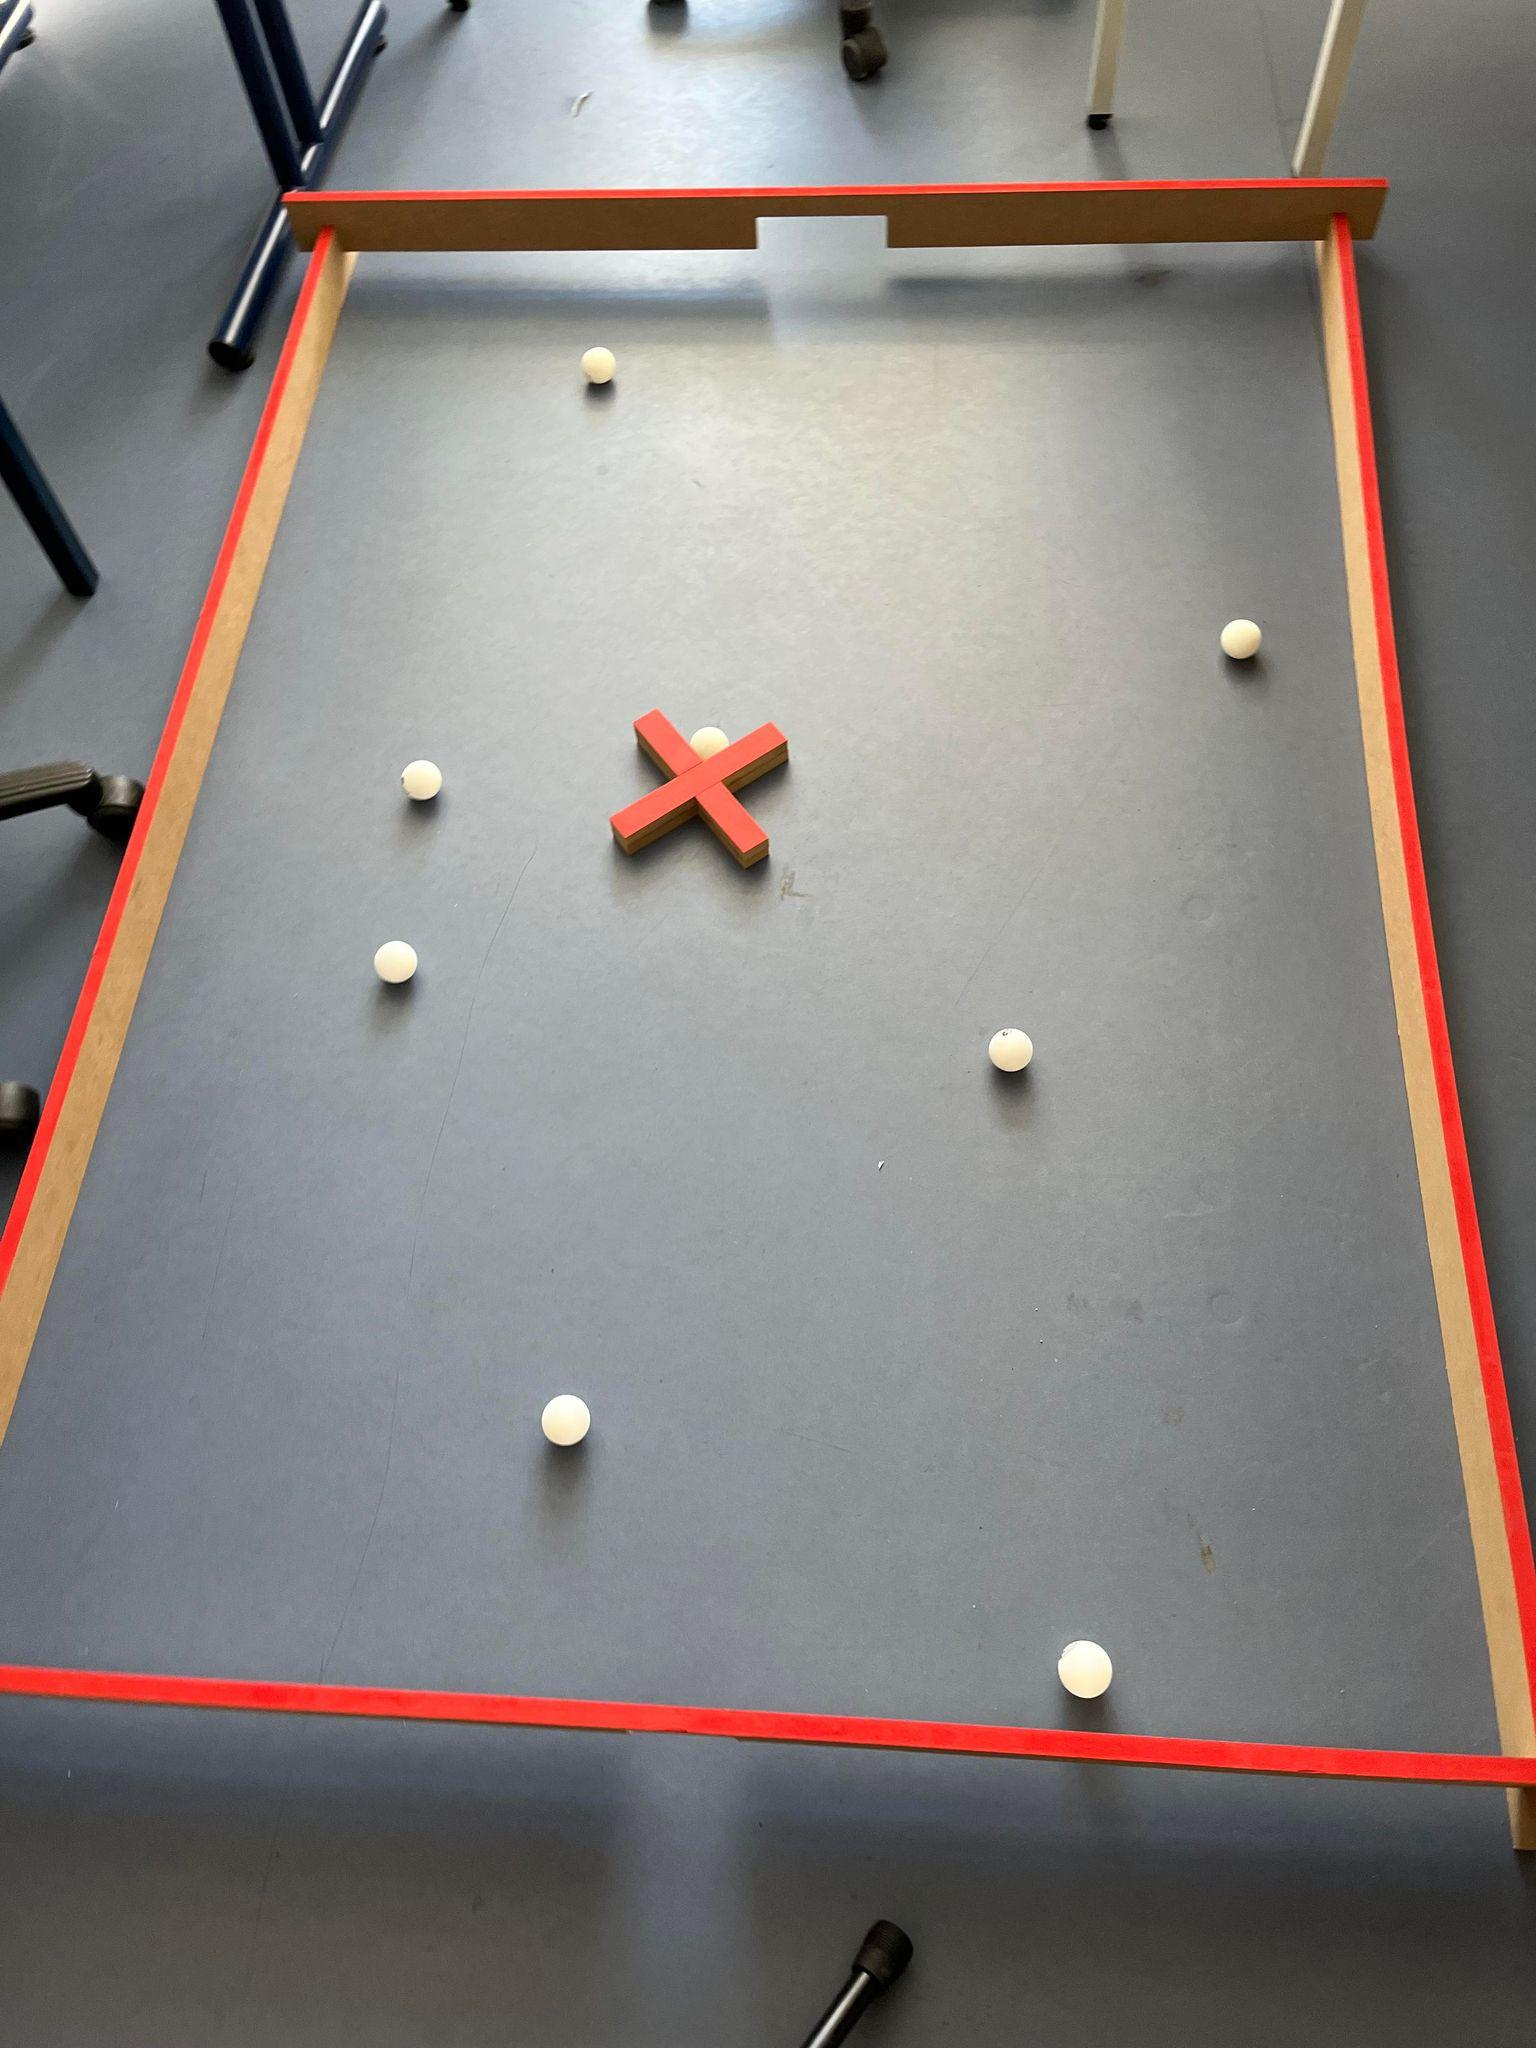white: (1057, 1642, 1117, 1698), (542, 1395, 595, 1451), (987, 1024, 1037, 1079), (400, 753, 447, 810), (1220, 618, 1268, 663), (371, 943, 423, 984), (576, 347, 618, 390)
